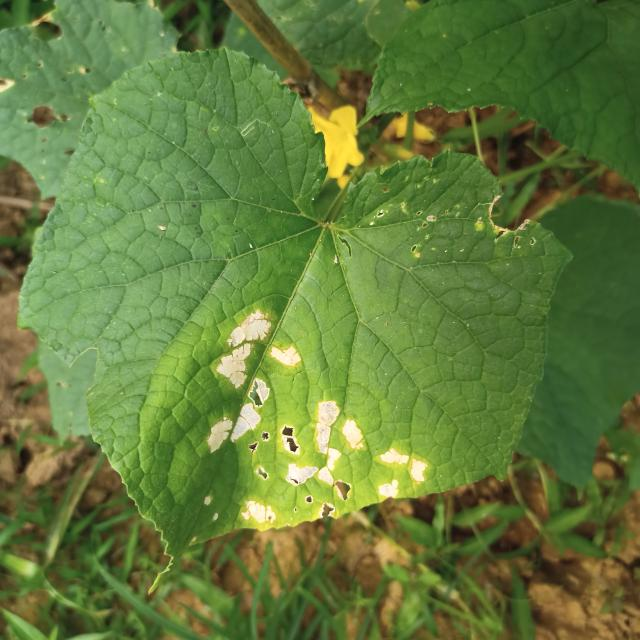disease_cucumber: (197, 296, 431, 529)
